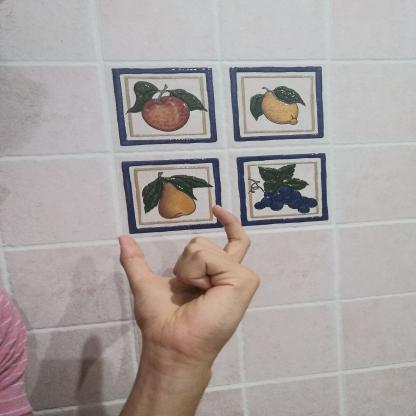NOON: (95, 192, 276, 368)
